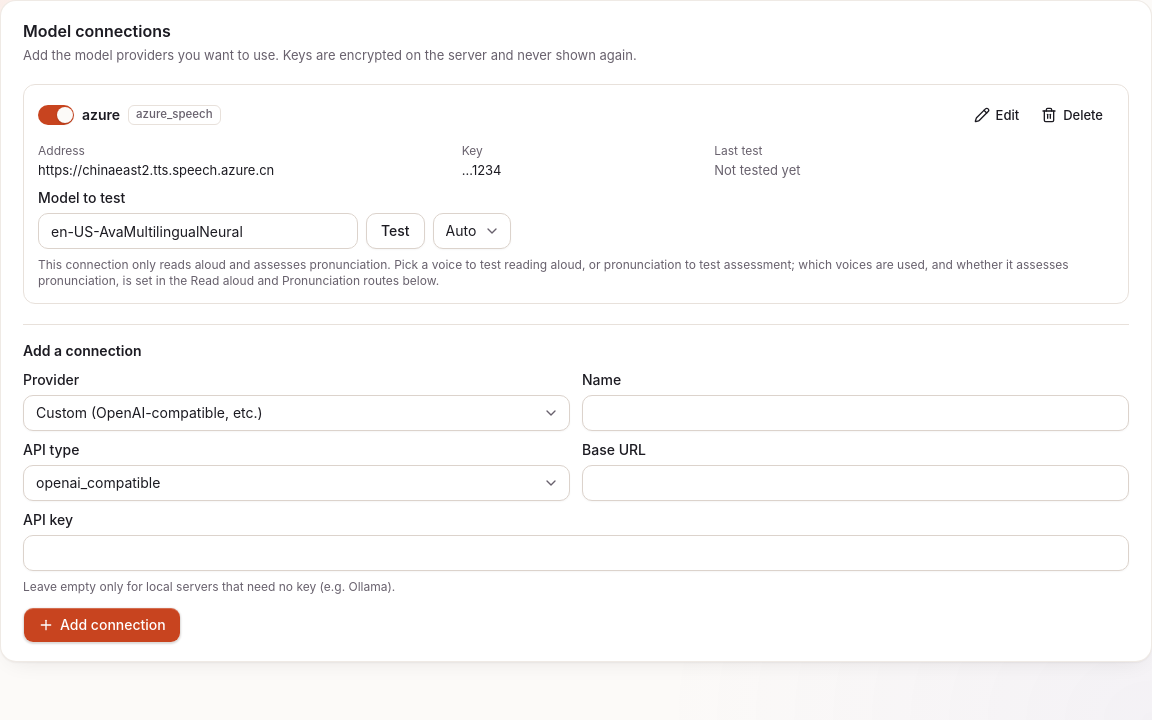
ConnectionsSection › tests a read-aloud connection with a voice, and says when it can't read aloud
Check: the dropdown labelled "Model to test" holds "en-US-AvaMultilingualNeural", box 38,213 -> 358,249
Click the button "Test": (395, 231) 366,213 -> 425,249
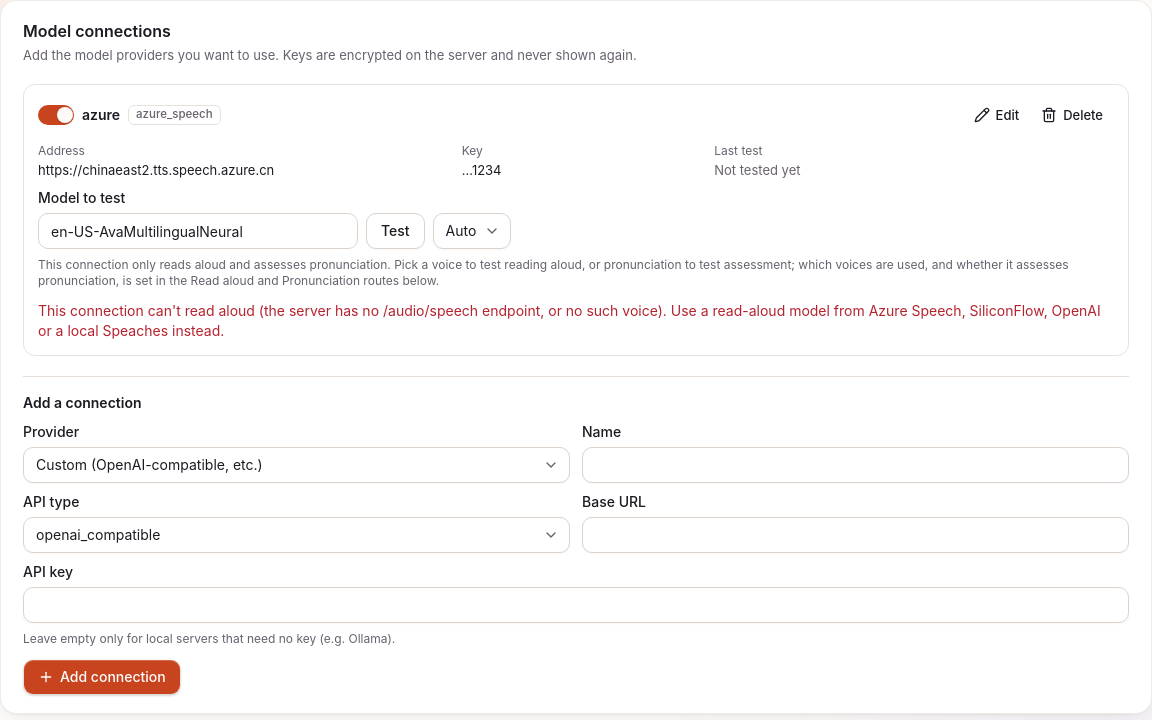
Check: the list item with test id "connection-azure" shows "This connection can't read aloud", box 38,302 -> 1101,339
